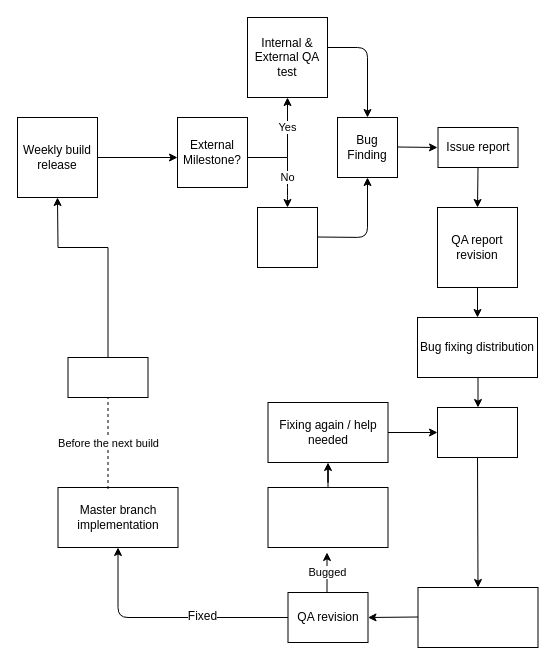
This 556x665 diagram has some shape labels left out. Each missing label, with the box of its shape:
Bug fixed: (436, 406, 518, 458)
Internal QA test: (256, 206, 318, 268)
QA branch implementation & change issue label: (417, 586, 538, 648)
Remove solution pull from QA branch: (267, 486, 388, 548)
Smoke test: (67, 356, 148, 398)
